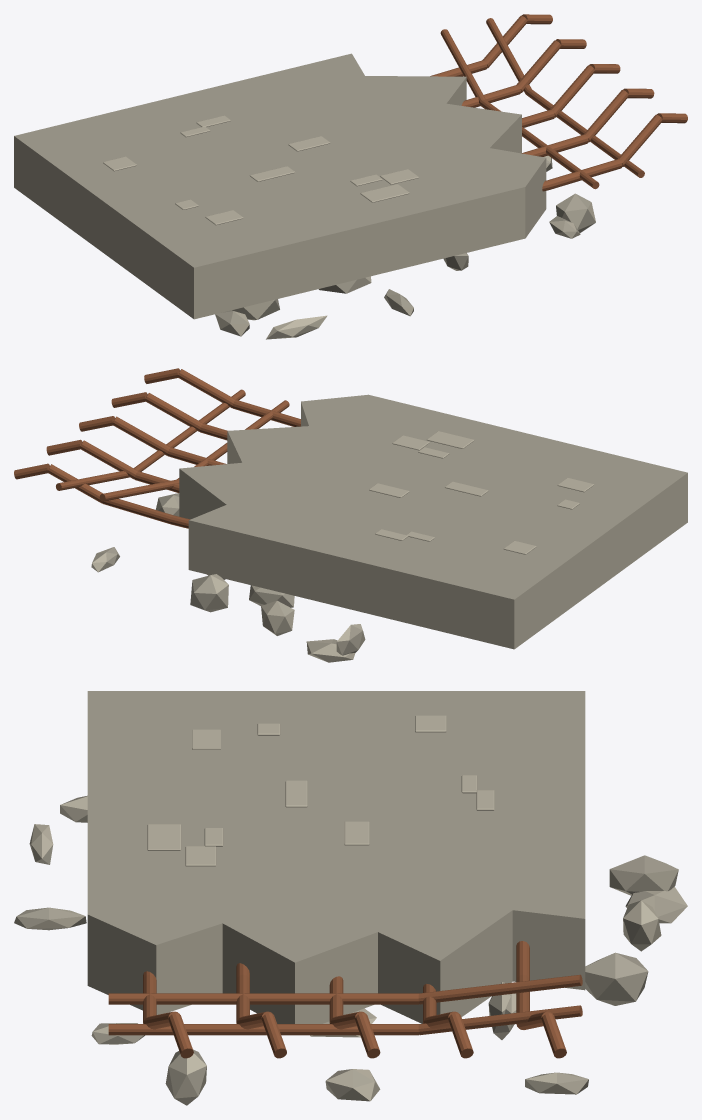
The model's file is Slab_Snapped_Rebar.glb.
3 views of the same model, one above another, from view 1: azimuth 30°, elevation 25°; view 2: azimuth 150°, elevation 25°; view 3: azimuth 270°, elevation 25° (orthographic). The views are drawn at different scales.
Parts seen in each view (by area): view 1: Snapped deck slab, Cross reinforcement.002, Broken concrete aggregate.002, Cross reinforcement, Broken concrete aggregate.013, Deck rebar.001, Cross reinforcement.001, Broken concrete aggregate.004, Cross reinforcement.003, Deck rebar.006, Deck rebar.010, Deck rebar.002 (+6 smaller); view 2: Snapped deck slab, Broken concrete aggregate.001, Broken concrete aggregate.005, Cross reinforcement.002, Broken concrete aggregate.008, Deck rebar.017, Cross reinforcement.001, Deck rebar.001, Broken concrete aggregate.010, Broken concrete aggregate.006, Deck rebar.006, Deck rebar.010 (+7 smaller); view 3: Snapped deck slab, Cross reinforcement, Cross reinforcement.002, Broken concrete aggregate.001, Broken concrete aggregate.010, Cross reinforcement.001, Broken concrete aggregate.002, Cross reinforcement.003, Broken concrete aggregate.005, Broken concrete aggregate, Broken concrete aggregate.012, Broken concrete aggregate.008 (+12 smaller).
Boxes of the visible parts, <box> form: Snapped deck slab: <box>14,53,546,319</box>; Cross reinforcement.002: <box>525,88,644,177</box>; Broken concrete aggregate.002: <box>556,193,595,232</box>; Cross reinforcement: <box>480,99,599,189</box>; Broken concrete aggregate.013: <box>266,315,327,339</box>; Deck rebar.001: <box>547,159,622,189</box>; Cross reinforcement.001: <box>440,29,485,104</box>; Broken concrete aggregate.004: <box>215,310,249,336</box>; Cross reinforcement.003: <box>486,18,531,93</box>; Deck rebar.006: <box>584,90,628,142</box>; Deck rebar.010: <box>550,65,594,117</box>; Deck rebar.002: <box>617,114,662,166</box>; Snapped deck slab: <box>179,394,687,649</box>; Broken concrete aggregate.001: <box>190,574,228,612</box>; Broken concrete aggregate.005: <box>261,600,294,635</box>; Cross reinforcement.002: <box>134,389,245,471</box>; Broken concrete aggregate.008: <box>306,639,355,662</box>; Deck rebar.017: <box>102,498,173,524</box>; Cross reinforcement.001: <box>99,479,179,501</box>; Deck rebar.001: <box>232,399,300,426</box>; Broken concrete aggregate.010: <box>336,624,365,655</box>; Broken concrete aggregate.006: <box>249,585,294,607</box>; Deck rebar.006: <box>145,393,203,431</box>; Deck rebar.010: <box>113,416,170,455</box>; Snapped deck slab: <box>87,691,585,1023</box>; Cross reinforcement: <box>108,993,419,1004</box>; Cross reinforcement.002: <box>108,1024,419,1035</box>; Broken concrete aggregate.001: <box>585,952,648,1005</box>; Broken concrete aggregate.010: <box>609,855,678,895</box>; Cross reinforcement.001: <box>418,974,582,1004</box>; Broken concrete aggregate.002: <box>165,1049,206,1105</box>; Cross reinforcement.003: <box>418,1005,582,1035</box>; Broken concrete aggregate.005: <box>623,900,661,951</box>; Broken concrete aggregate: <box>325,1069,380,1101</box>; Broken concrete aggregate.012: <box>14,907,86,930</box>; Broken concrete aggregate.008: <box>625,886,687,923</box>.
Bounding box in the file's own units: 4.06 × 0.7817 × 3.25.
